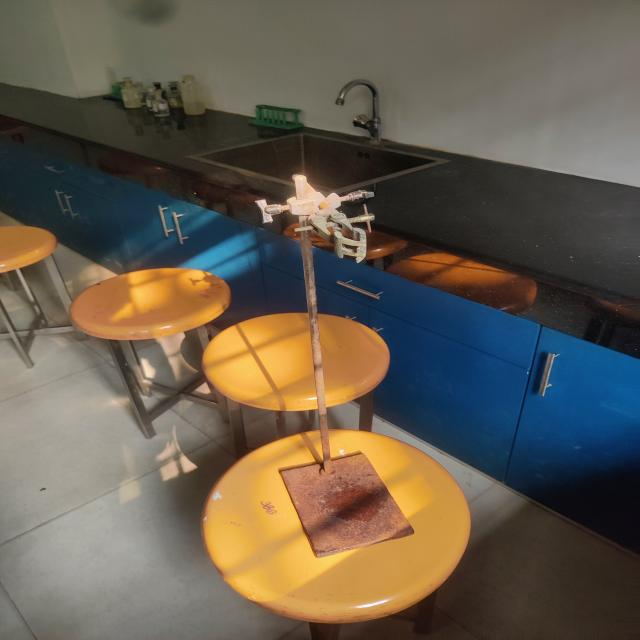Burette_Stands: (218, 150, 480, 567)
